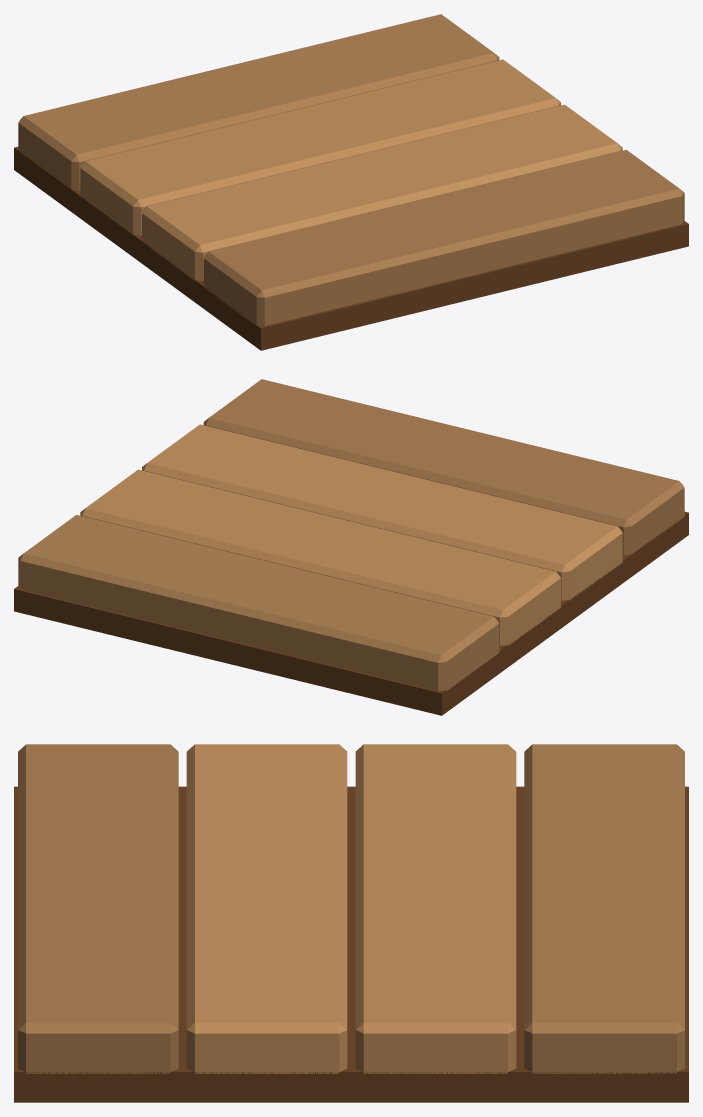
Rendered from raft_tile.glb.
3 views of the same model, one above another, from view 1: azimuth 30°, elevation 25°; view 2: azimuth 150°, elevation 25°; view 3: azimuth 270°, elevation 25° (orthographic). The views are drawn at different scales.
Visible parts, largest first — view 1: raft; view 2: raft; view 3: raft.
Part boxes in pixels (<box>): raft: <box>14,14,688,350</box>; raft: <box>14,379,688,715</box>; raft: <box>14,744,688,1102</box>.
Size of the model in its own units: 1 by 0.125 by 1.
